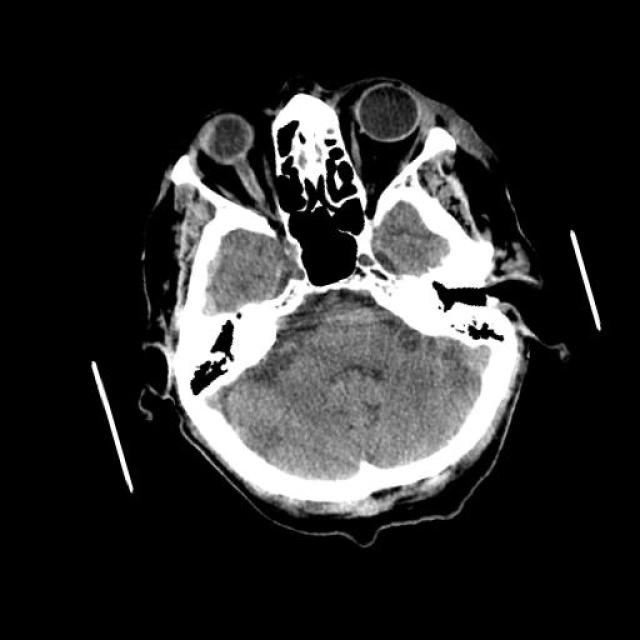Subdural: (161, 240, 248, 326)
